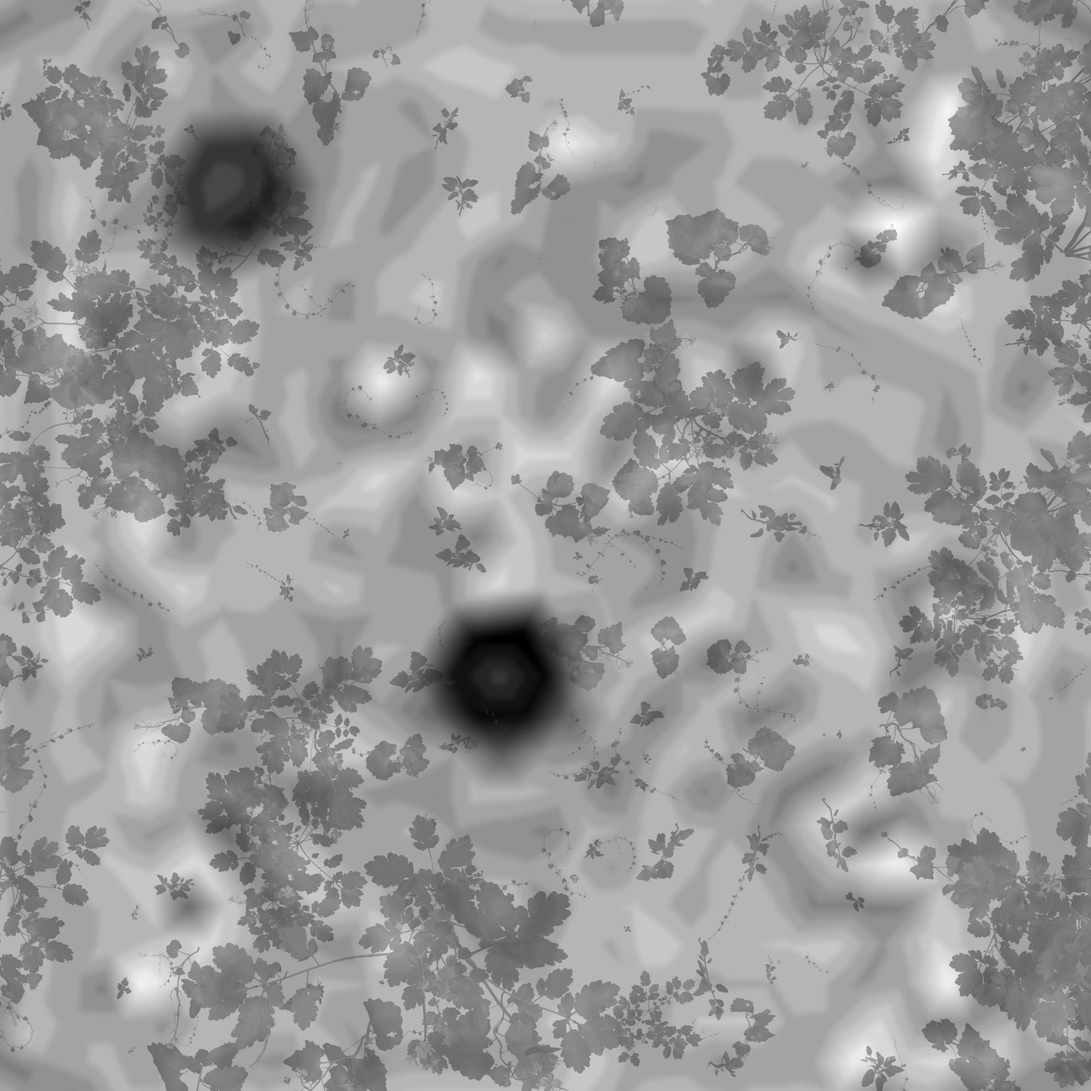landmine: (433, 600, 580, 758), (172, 126, 302, 255)
